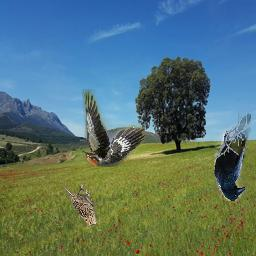Crow: (215, 113, 252, 201)
Sparrow: (63, 184, 98, 227)
Woodpecker: (83, 89, 146, 167)
